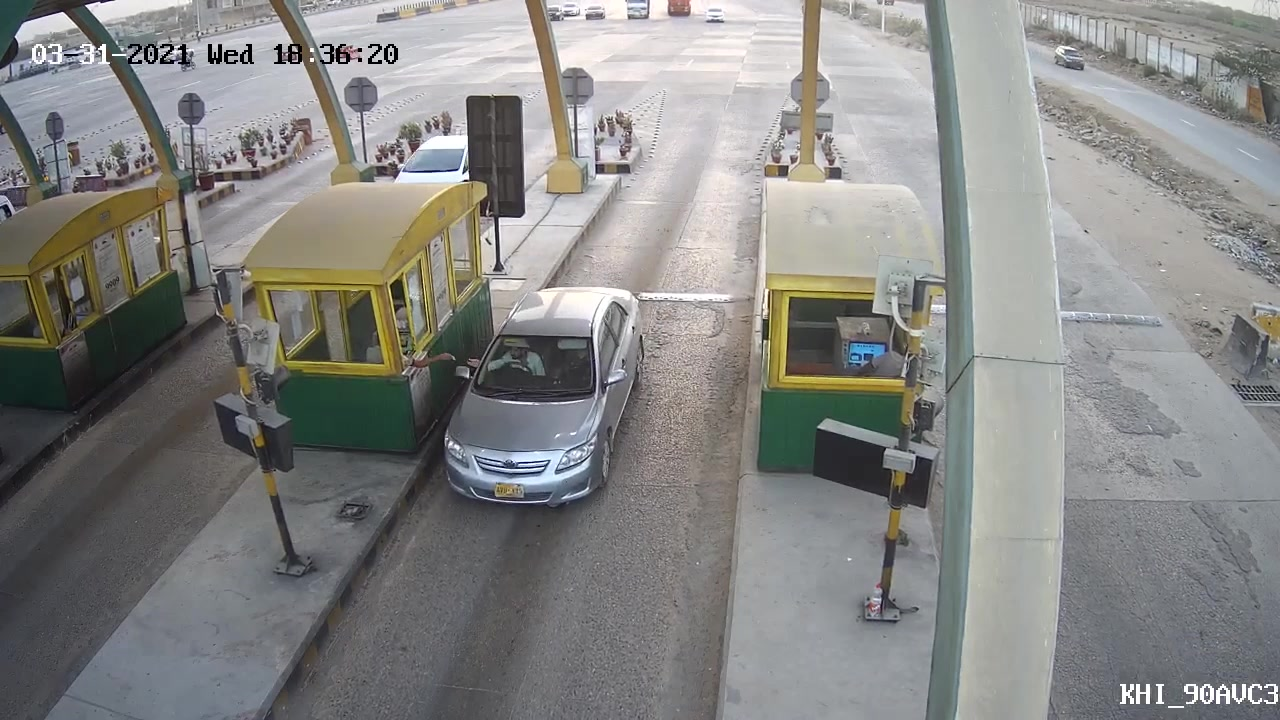F1: (435, 276, 656, 526)
